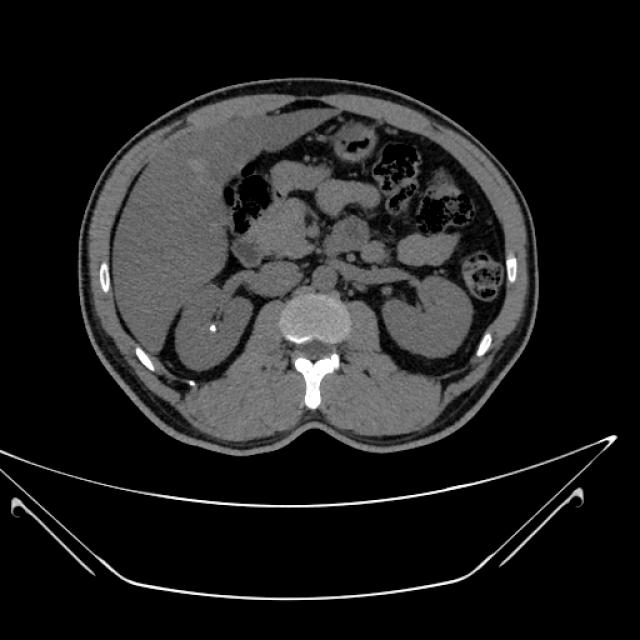kidney: (390, 288, 468, 354), (179, 293, 237, 367)
stone: (210, 325, 216, 331)
